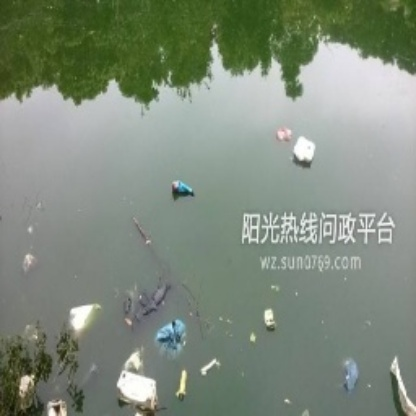plastic-garbage: (152, 315, 191, 357), (288, 132, 324, 168)
